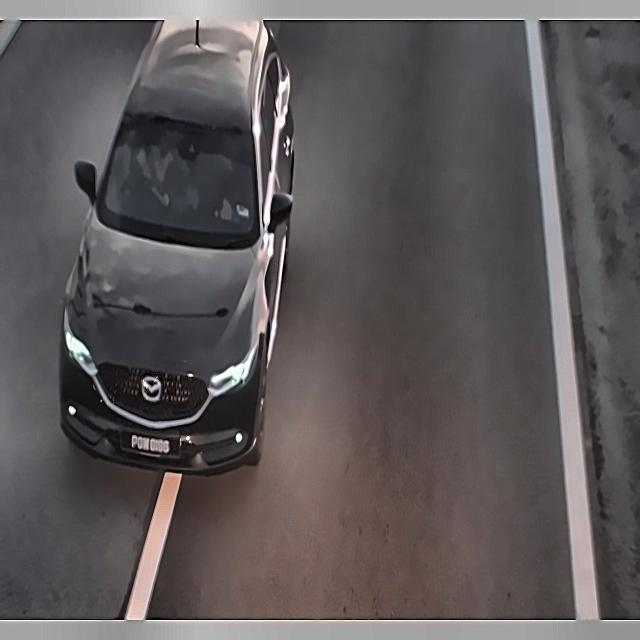car: (118, 419, 185, 466)
